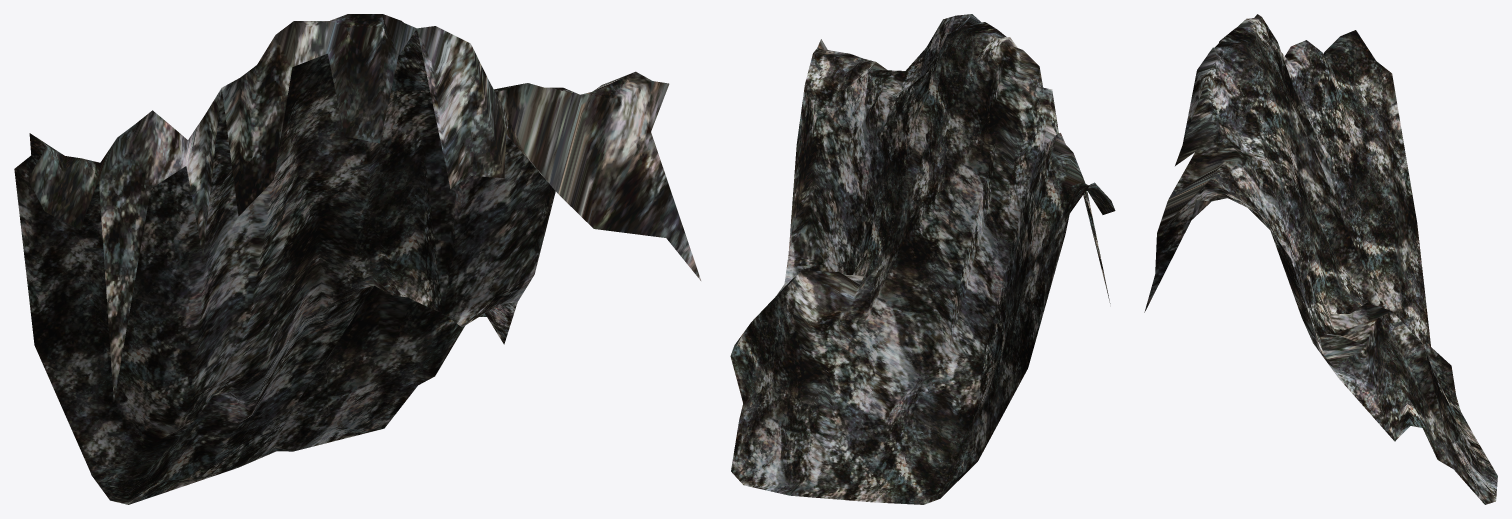
The model's file is OVERHILL_A_01_MOUN1_OBJECT156.fbx.
3 renders of one model, left to right at view 1: azimuth 30°, elevation 25°; view 2: azimuth 150°, elevation 25°; view 3: azimuth 270°, elevation 25°, orthographic. The views are drawn at different scales.
Parts seen in each view (by area): view 1: OVERHILL_A_01_MOUN1_OBJECT156; view 2: OVERHILL_A_01_MOUN1_OBJECT156; view 3: OVERHILL_A_01_MOUN1_OBJECT156.
Part boxes in pixels (x1,y1,x2,y2): OVERHILL_A_01_MOUN1_OBJECT156: (14, 14, 700, 504); OVERHILL_A_01_MOUN1_OBJECT156: (730, 14, 1115, 504); OVERHILL_A_01_MOUN1_OBJECT156: (1144, 14, 1497, 504).
Size of the model in its own units: 325757 by 344030 by 269840.
1 material, 1 textured.
